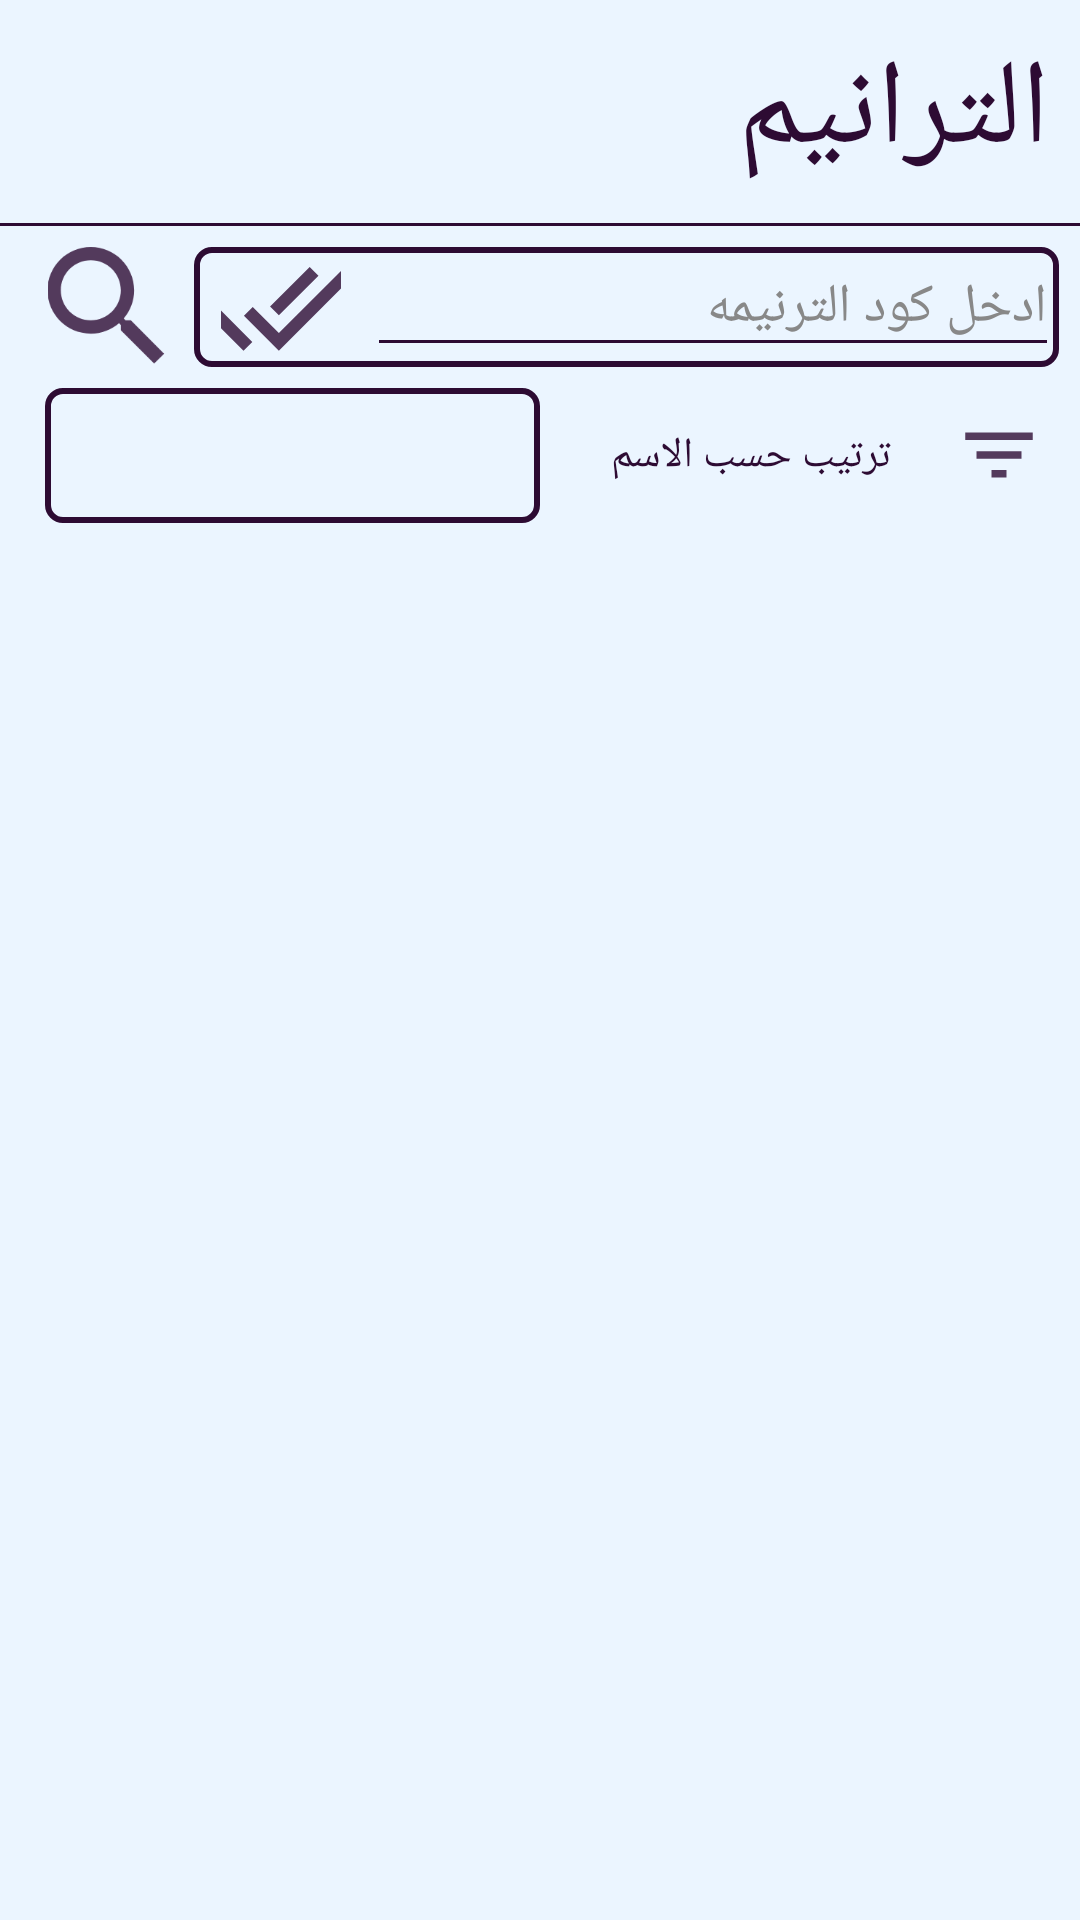

Point at icon controls on the screen. Image size 1080w x 1920h, points as (x=x, y=y).
done: (x=281, y=309)
search: (x=106, y=305)
